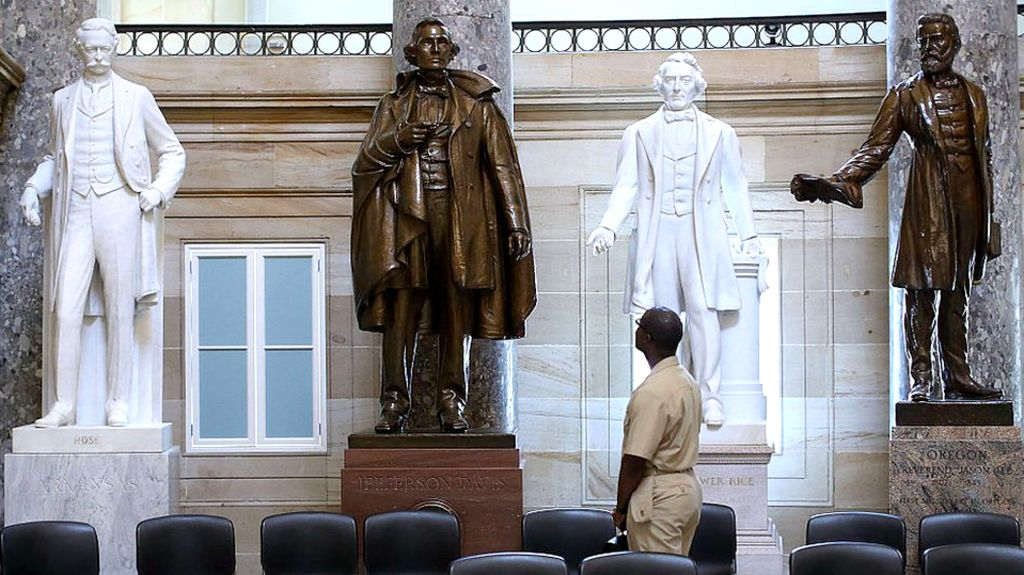person: (608, 302, 706, 559)
person-like: (793, 10, 1013, 407), (341, 13, 541, 434), (17, 14, 188, 431), (582, 46, 758, 428)
